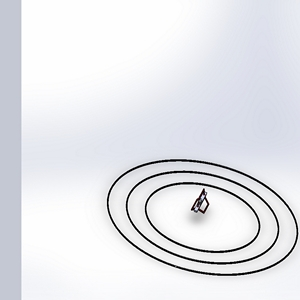circle: (101, 152, 300, 280)
submarine: (180, 185, 220, 225)
